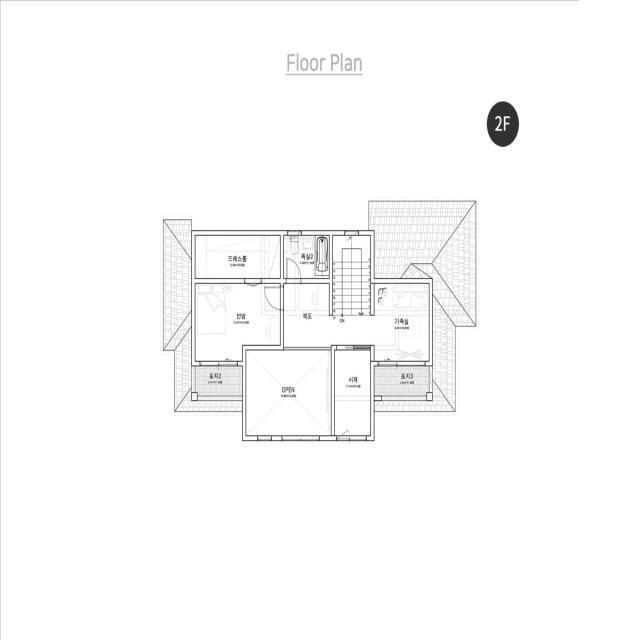space_bedroom: (195, 284, 280, 361)
space_dressroom: (195, 236, 280, 278)
space_living_room: (284, 284, 429, 361)
space_other: (246, 350, 331, 435), (335, 350, 370, 435)
space_staircase: (333, 236, 371, 315)
space_toilet: (284, 236, 329, 278)
